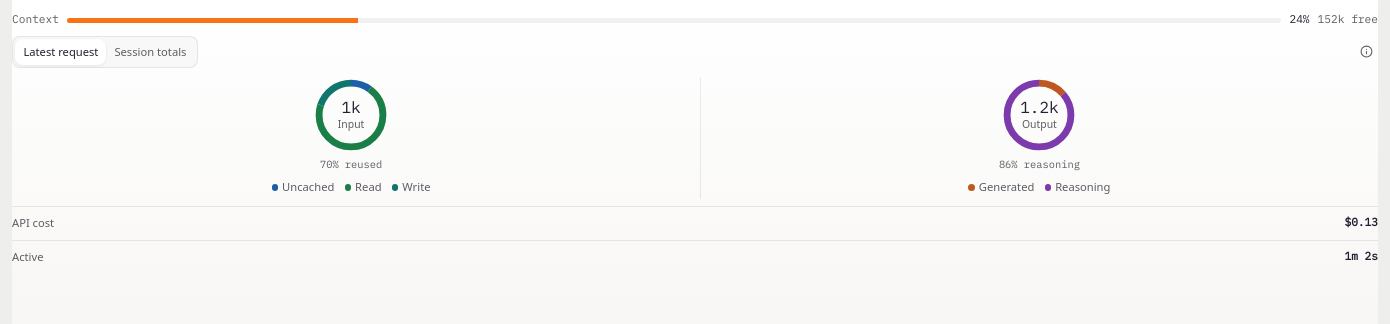
SessionUsageBar › clears selections when switching scope and keeps reasoning separate
The image size is (1390, 324).
What coordinates should you click on to do the following:
click the button with aria-label "Output (excluding reasoning)"
I would click on:
 (1001, 187)
Its box is [964,175,1038,199].
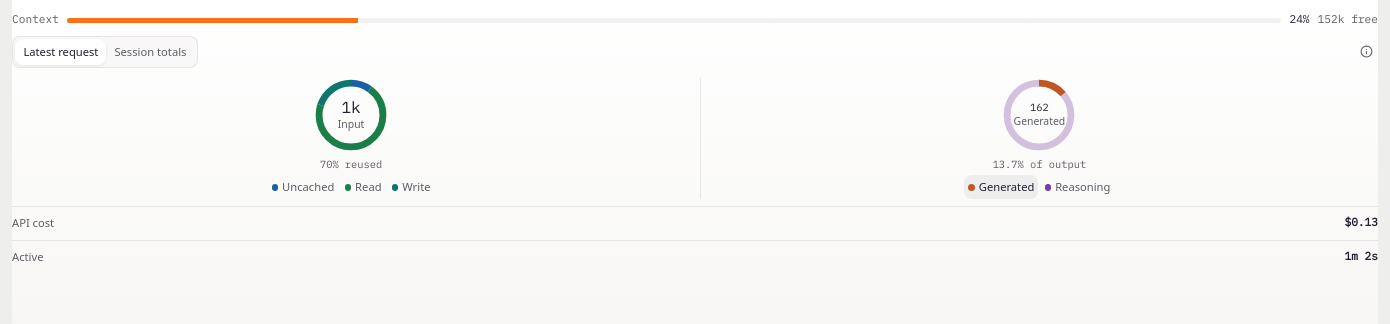
expect the element with class "session-usage-ring-center" shows "162": met, box [1030,100,1049,114]
What coordinates should you click on to do the following:
click the button "Session totals"
I would click on:
 (150, 52)
Its box is [106,39,194,65].
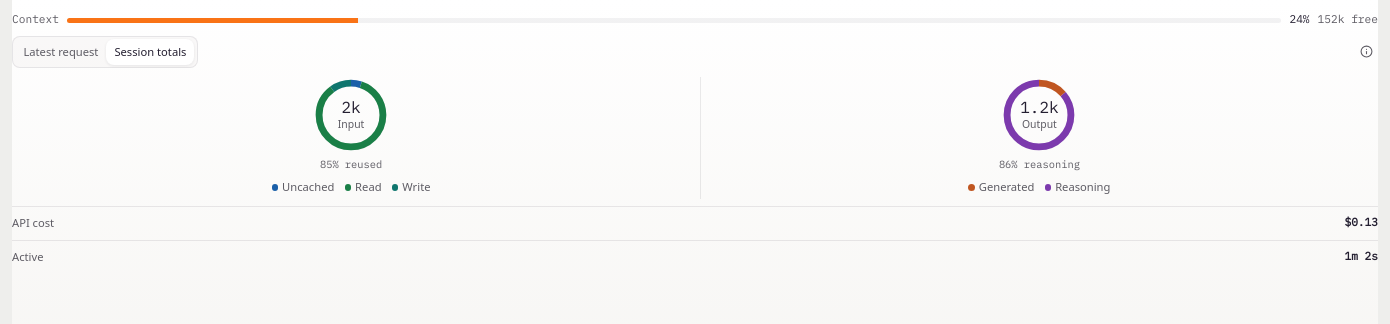
expect the text "86% reasoning" is shown: met, box [999,156,1080,172]
